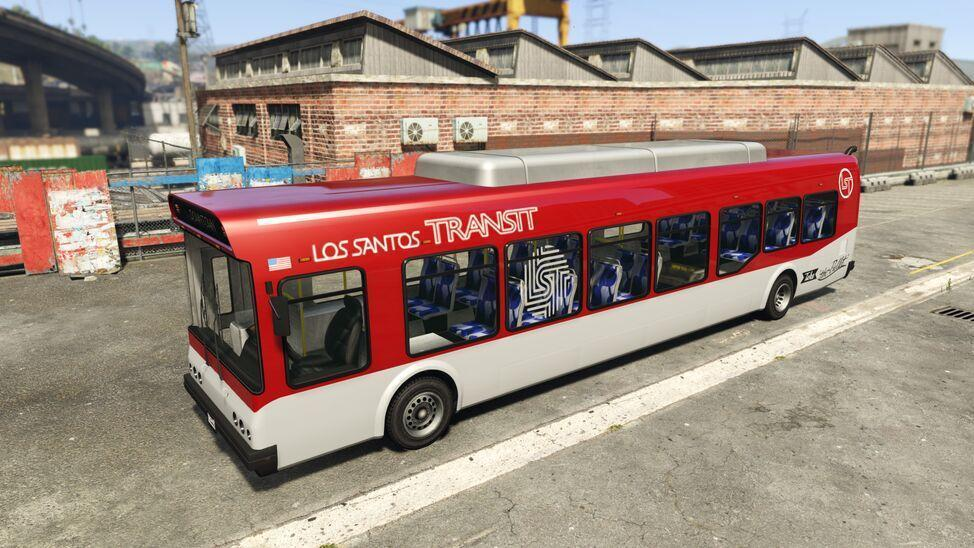Bus: (502, 258, 509, 278)
